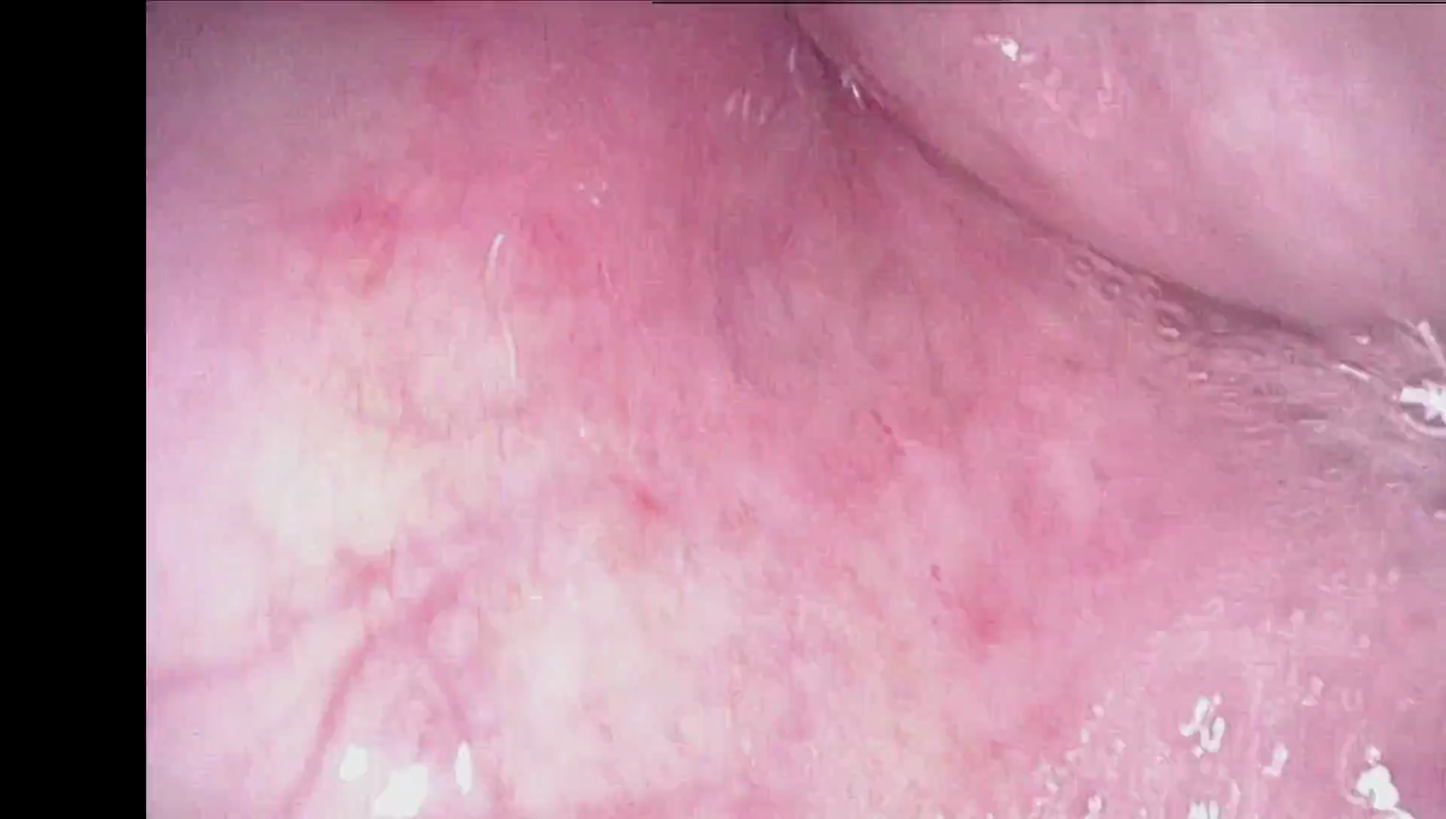close_wall: (165, 215, 550, 819)
